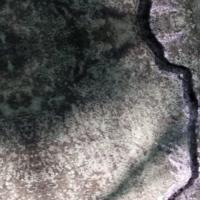crack: (129, 1, 199, 199)
